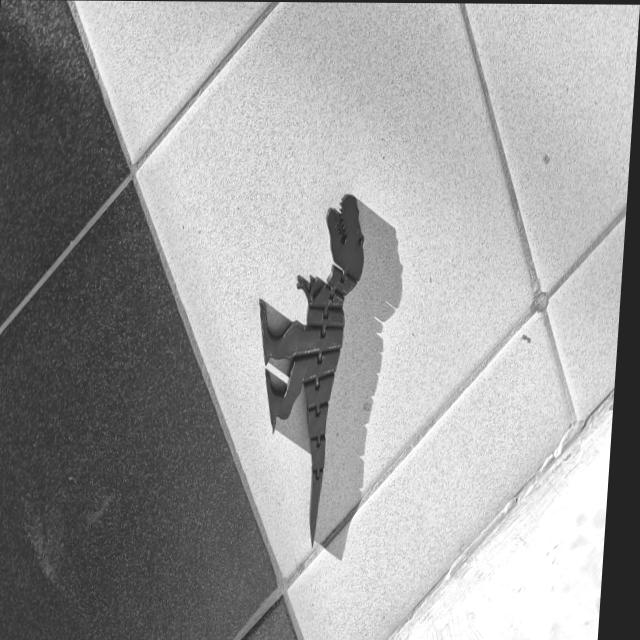dino: (240, 191, 368, 550)
